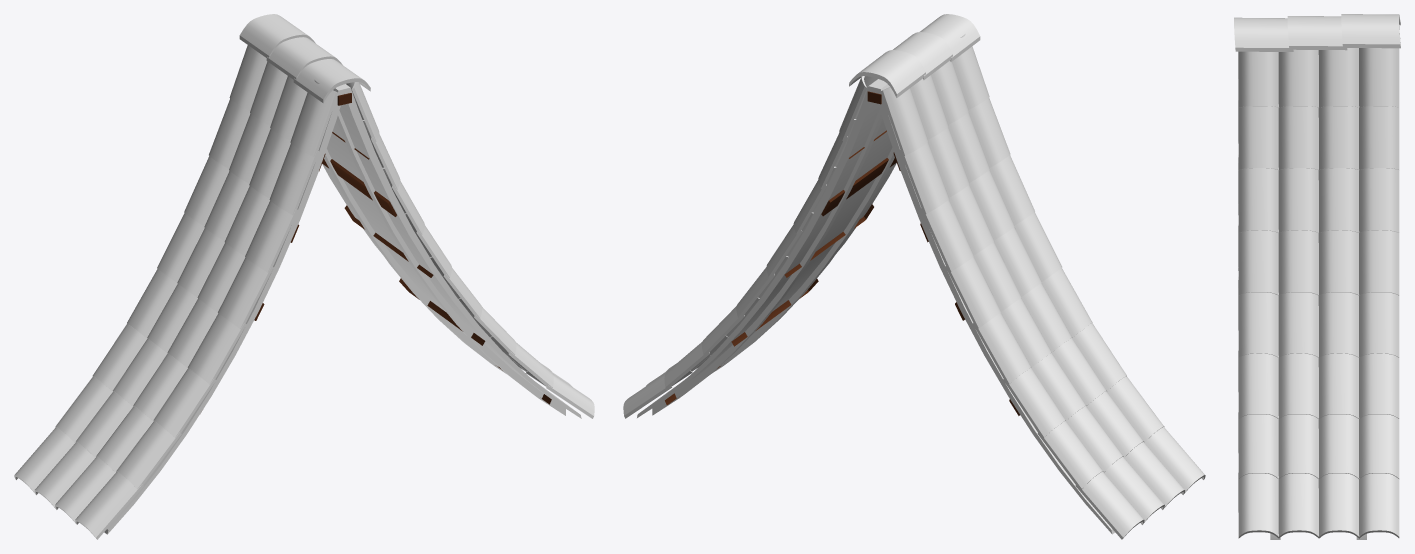
The model's file is S_Roof_NoFrame.fbx.
3 renders of one model, left to right at view 1: azimuth 30°, elevation 25°; view 2: azimuth 150°, elevation 25°; view 3: azimuth 270°, elevation 25°, orthographic.
Visible parts, largest first — view 1: Cube.012, S_Roof_NoFrame, Cube.018; view 2: Cube.012, S_Roof_NoFrame, Cube.018; view 3: Cube.012.
Part boxes in pixels (left/top/right/bottom): Cube.012: left=14, top=14, right=594, bottom=539; S_Roof_NoFrame: left=104, top=84, right=581, bottom=534; Cube.018: left=254, top=93, right=551, bottom=404; Cube.012: left=623, top=14, right=1205, bottom=539; S_Roof_NoFrame: left=637, top=79, right=1115, bottom=534; Cube.018: left=665, top=91, right=1019, bottom=415; Cube.012: left=1234, top=14, right=1400, bottom=538.
Size of the model in its own units: 767 by 593 by 220.
